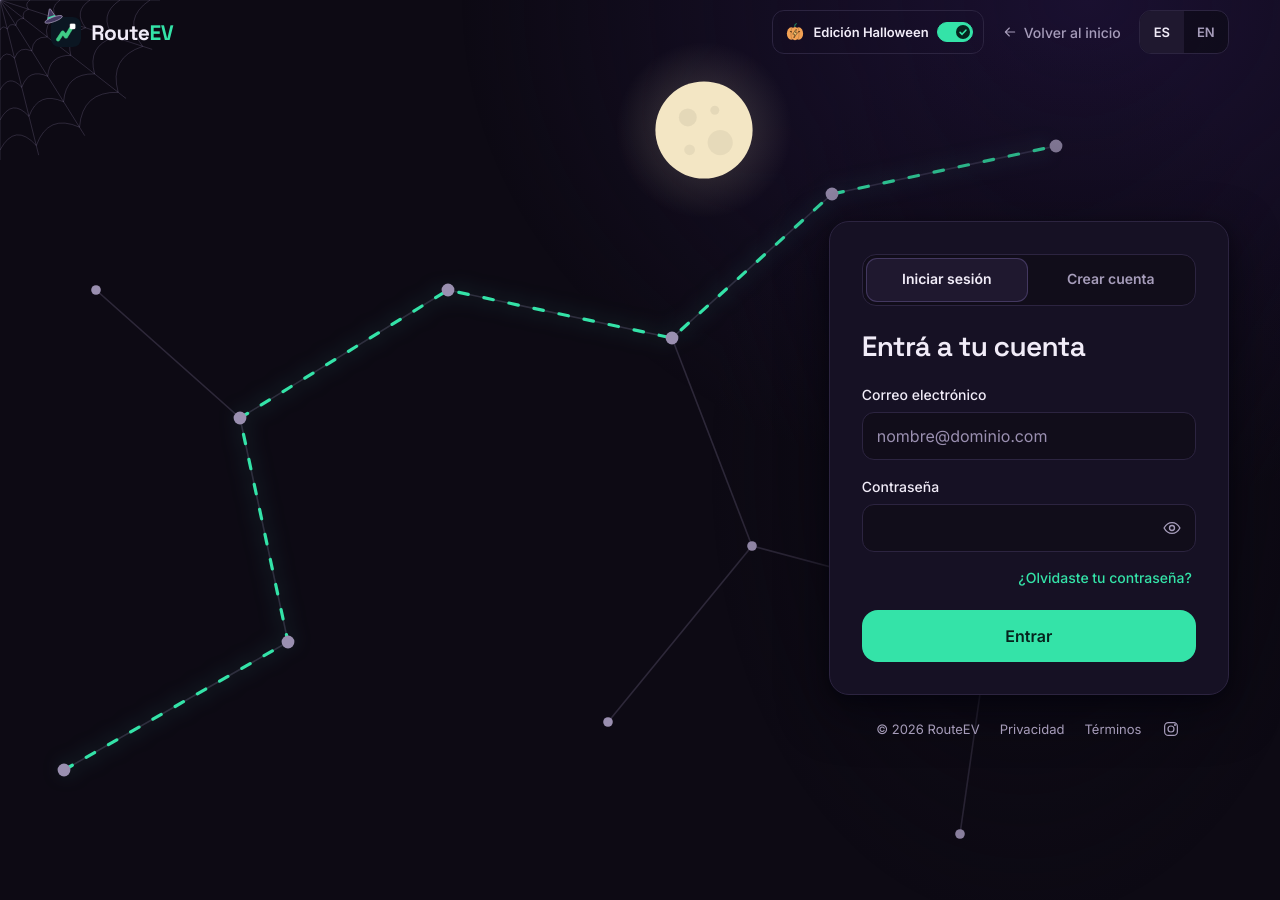
Test: LoginPage › con el correo sin confirmar, pasa a confirmarlo con un aviso
Type "marcela@gmail.com" into the field labelled "Correo electrónico".
click(1029, 436); type("marcela@gmail.com")  # box x1=862 y1=412 x2=1196 y2=460
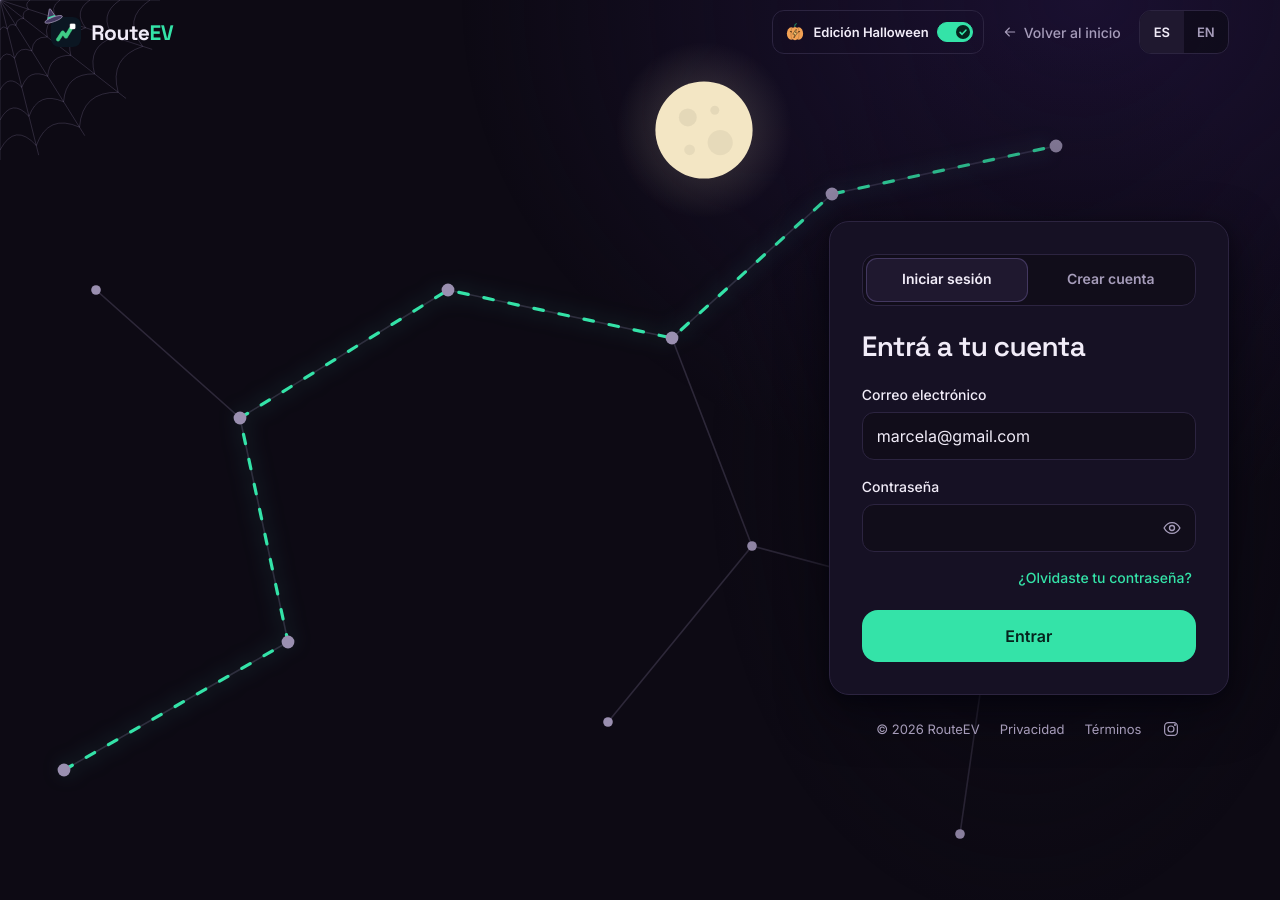
Type "contraseña123" into the password field labelled "Contraseña".
click(1029, 528); type("contraseña123")  # box x1=862 y1=504 x2=1196 y2=552
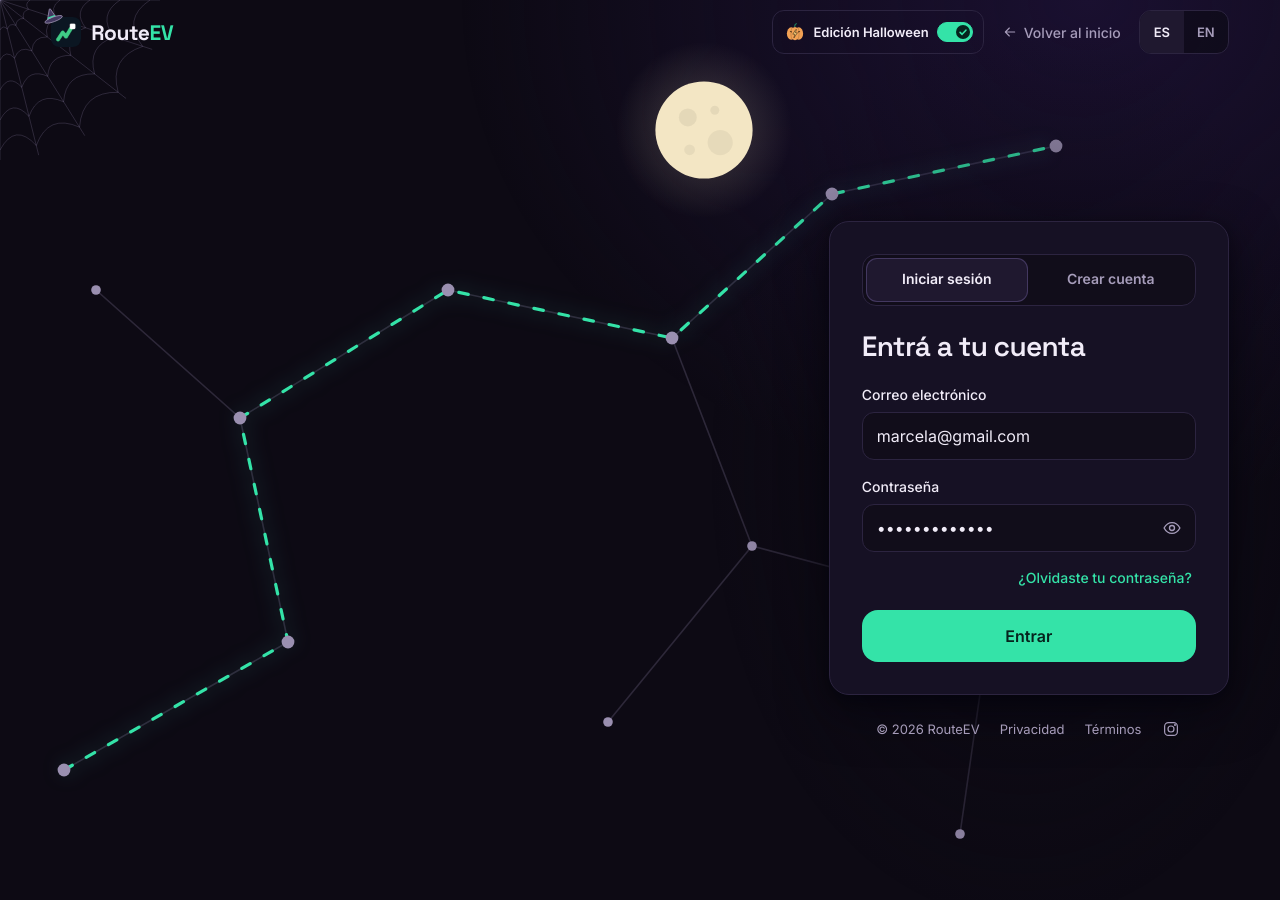
Click the button "Entrar".
click(1029, 636)  # box x1=862 y1=610 x2=1196 y2=662
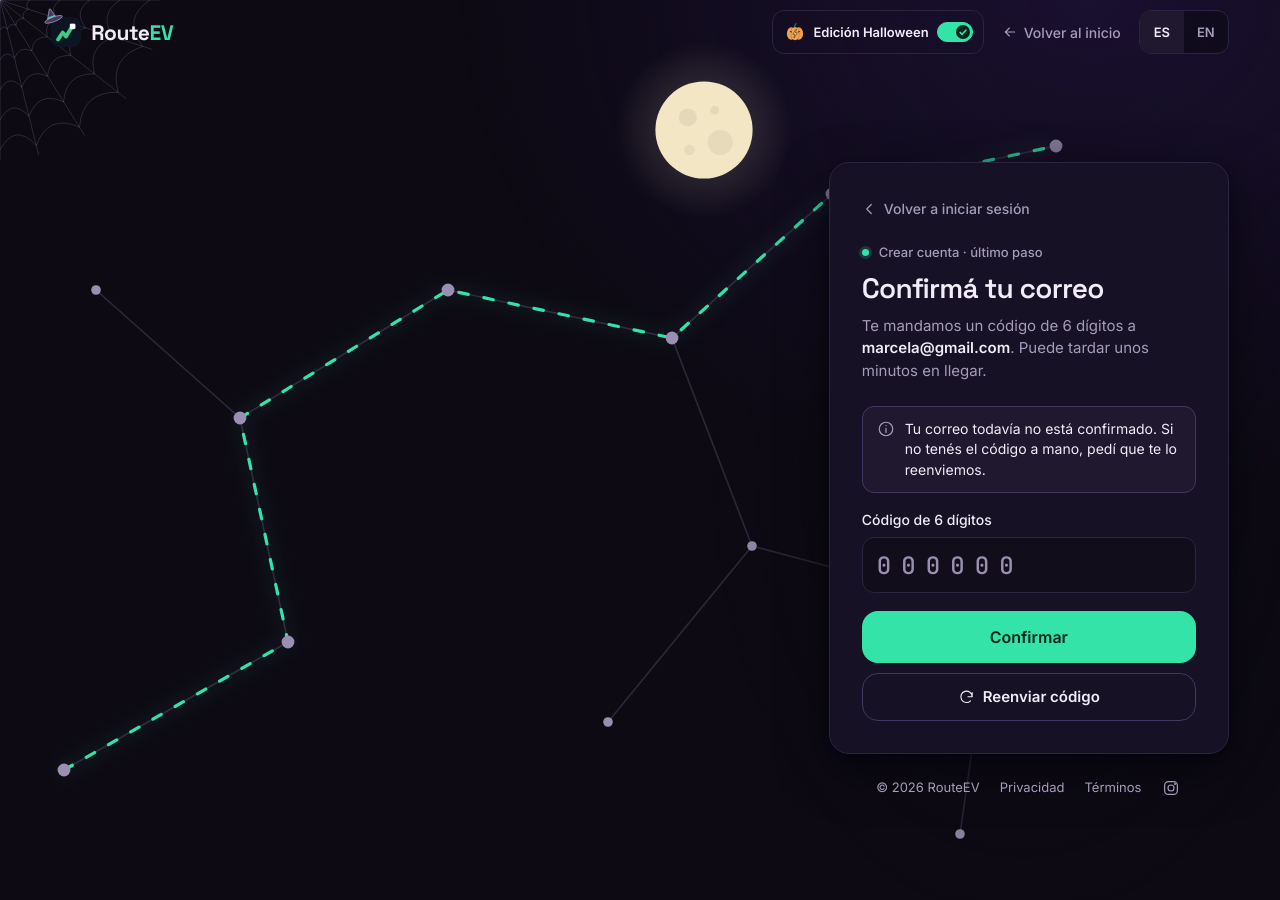
Check: the heading "Confirmá tu correo" is shown, box x1=862 y1=270 x2=1104 y2=306
Check: the message shows "Tu correo todavía no está confirmado", box x1=905 y1=420 x2=1177 y2=478
Check: the text "marcela@gmail.com" is shown, box x1=862 y1=338 x2=1010 y2=357
